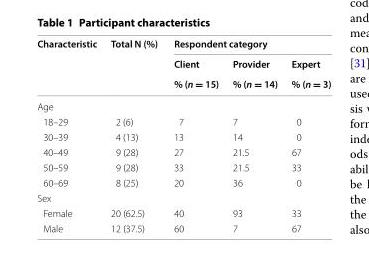table: (36, 36, 330, 233)
table column: (36, 36, 103, 233), (103, 36, 165, 233), (165, 36, 225, 233), (225, 36, 283, 233), (283, 36, 330, 233)
table column header: (36, 36, 330, 98)
table projected row header: (36, 189, 330, 205), (36, 98, 330, 113)
table row: (36, 73, 330, 98), (36, 52, 330, 73), (36, 36, 330, 52), (36, 128, 330, 144), (36, 189, 330, 205), (36, 98, 330, 113), (36, 113, 330, 128), (36, 144, 330, 159), (36, 159, 330, 174), (36, 174, 330, 189), (36, 205, 330, 220), (36, 220, 330, 233)
table spanning cell: (36, 36, 103, 98), (103, 36, 165, 98), (165, 52, 225, 98), (225, 52, 283, 98), (165, 36, 330, 52), (283, 52, 330, 98)
